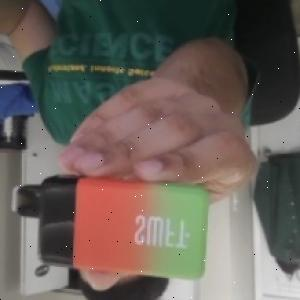Swift-E-Ciggirate: (9, 172, 211, 289)
